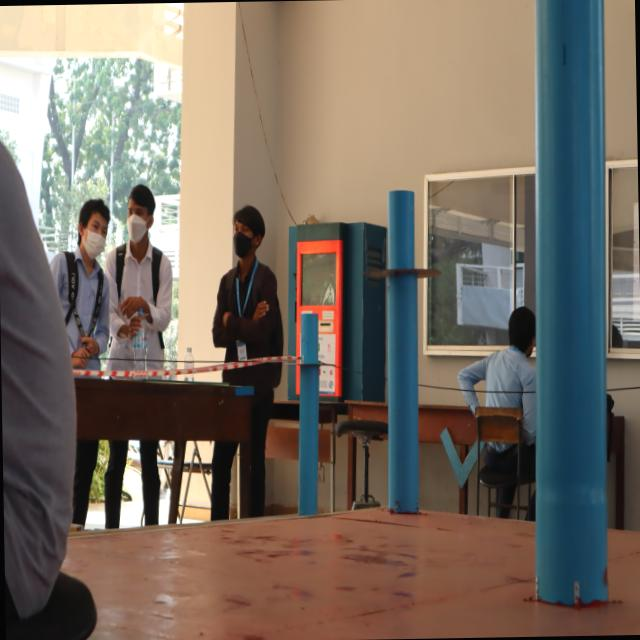pole: (359, 186, 444, 344), (280, 308, 331, 407)
